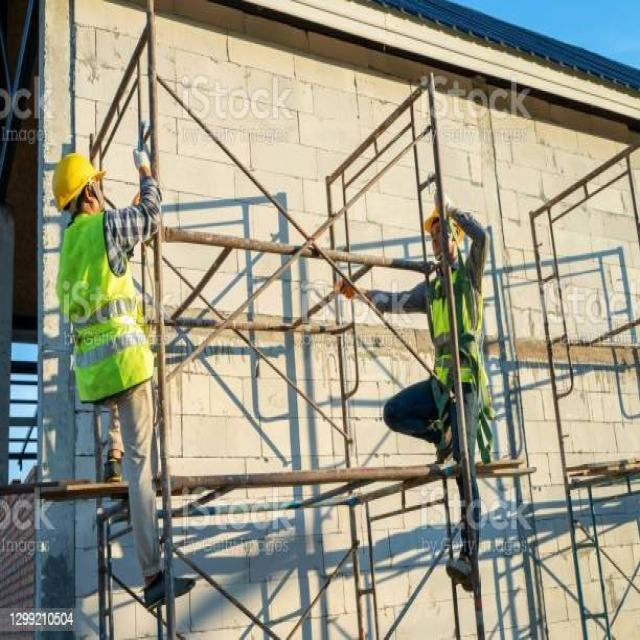Arnes_seguridad: (416, 262, 496, 443)
